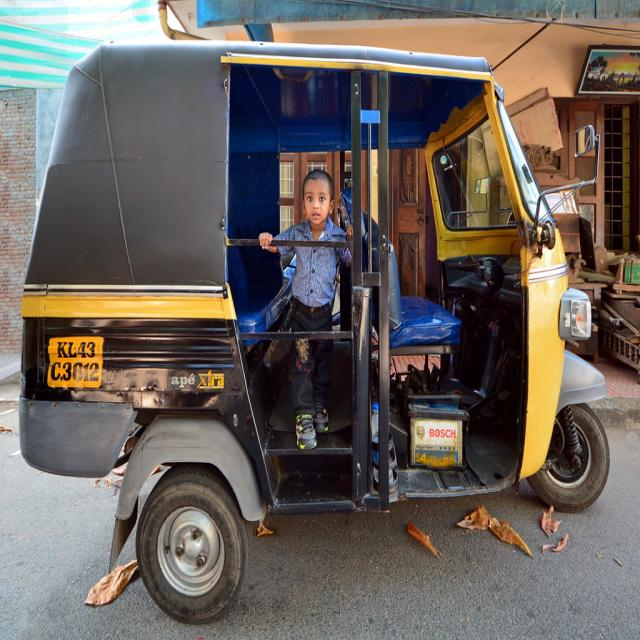autorikshaw: (20, 46, 612, 614)
